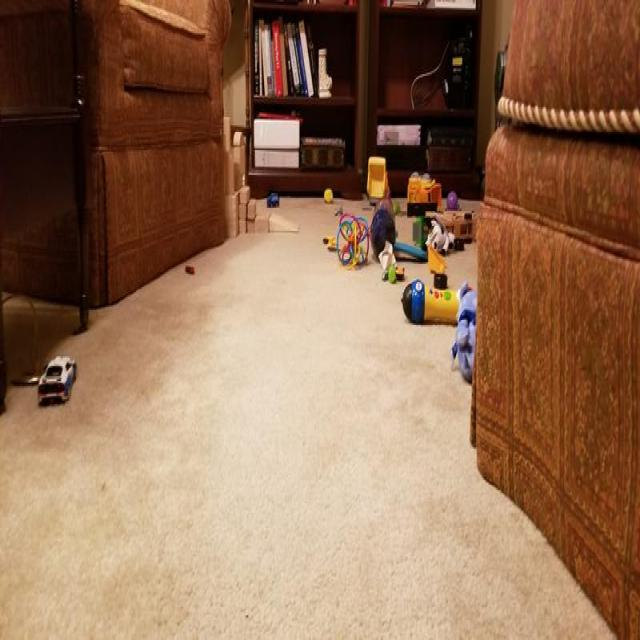toy: (449, 275, 482, 381), (29, 352, 85, 409), (404, 278, 466, 324), (416, 213, 480, 251), (338, 211, 371, 273), (409, 169, 447, 216), (372, 204, 398, 267), (364, 150, 392, 204), (374, 242, 405, 286), (390, 234, 429, 266), (430, 212, 458, 252), (322, 226, 342, 258), (266, 185, 281, 211), (447, 192, 462, 213), (322, 188, 336, 204), (185, 260, 197, 278)
